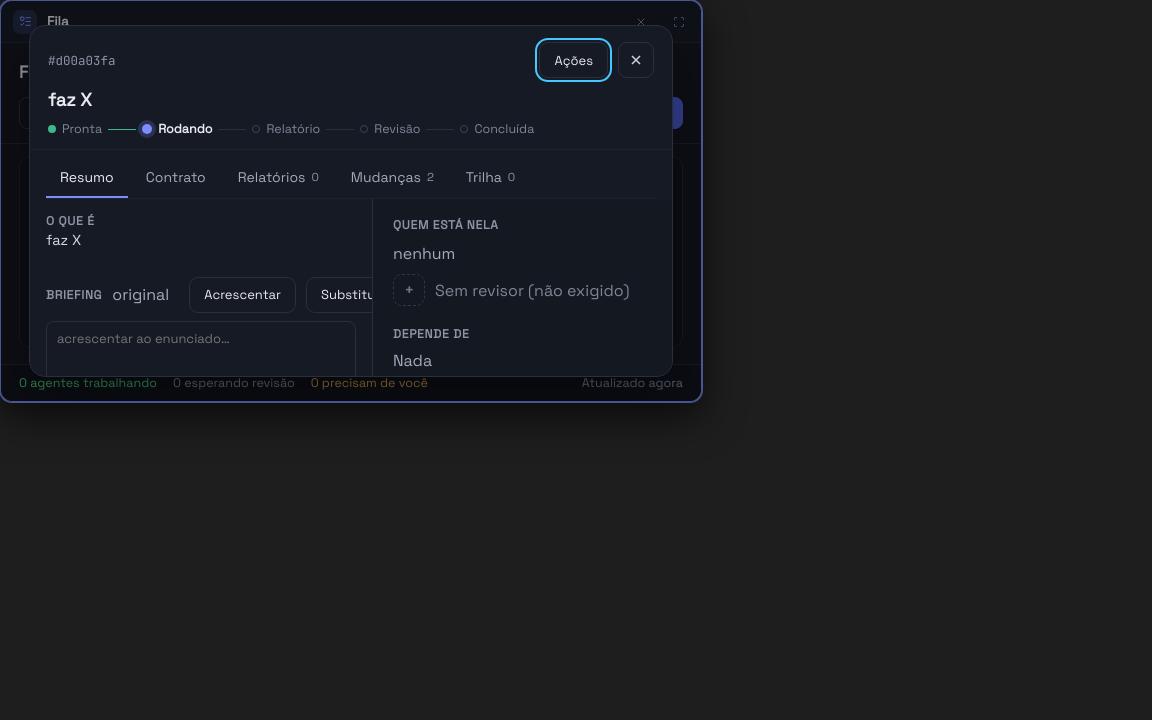
Test case: detalhe V3: lista de arquivos do diff › abaixo do limiar: lista plana, sem cabeçalho de pasta
Click the button "Mudanças 2" at (392, 178), box [337,158,448,198]
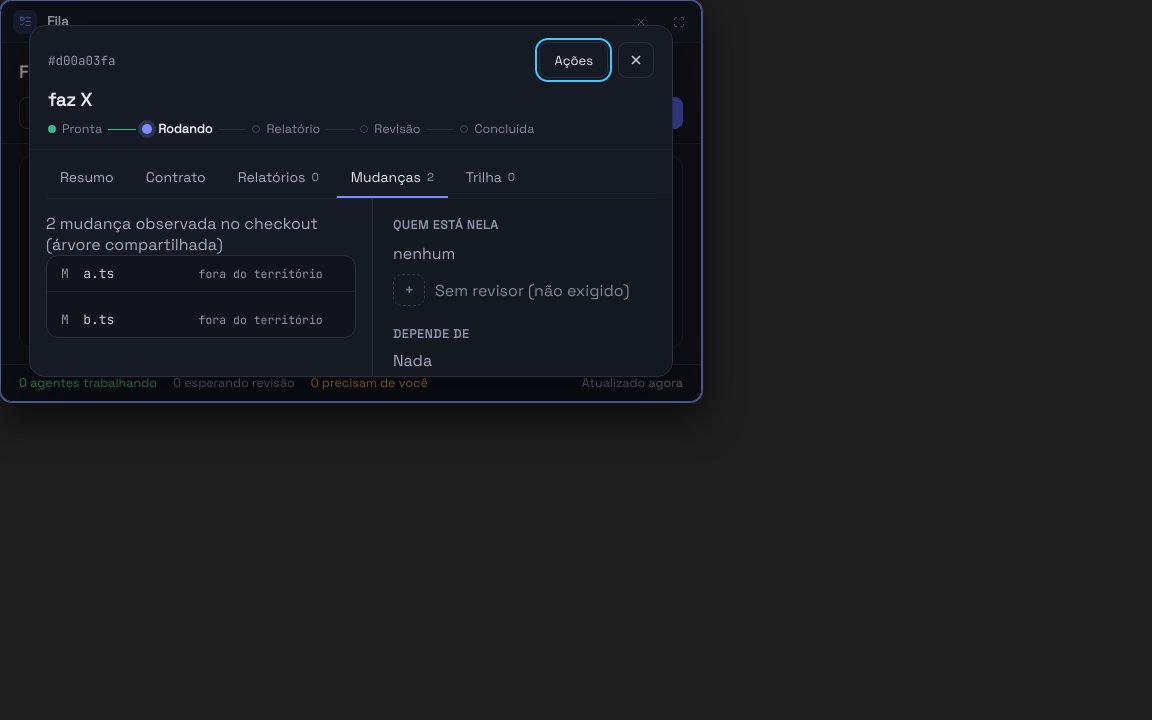
Now the element showing "M a.ts fora do território M b.ts fora do território" is shown, box [46,255,356,338]
